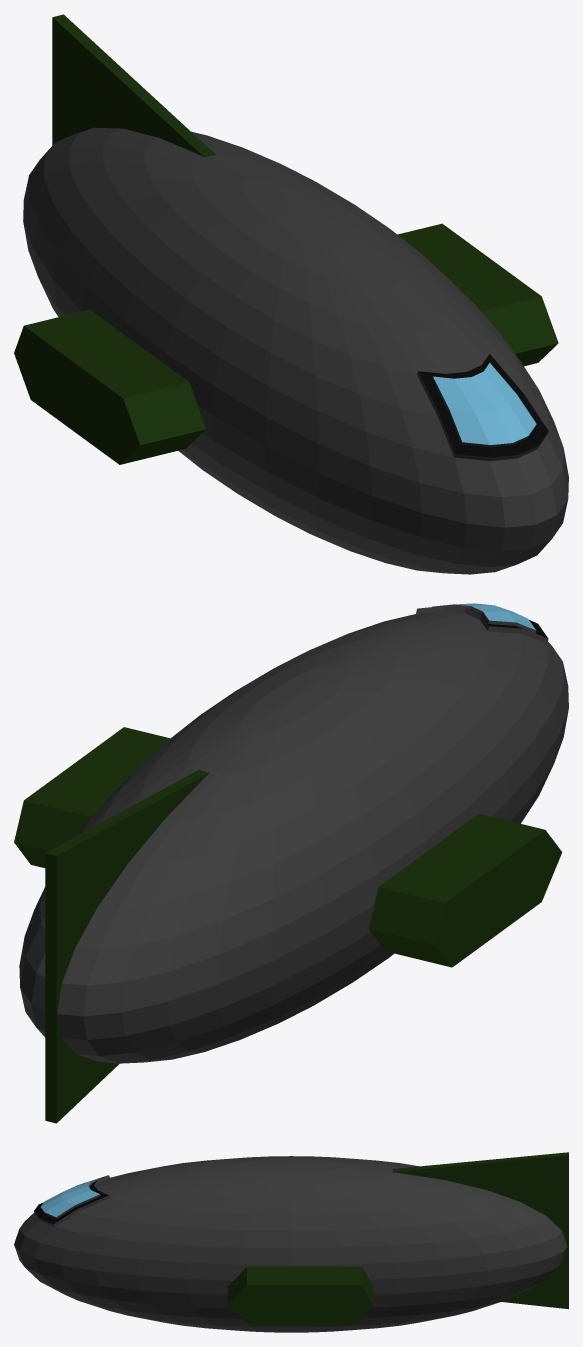
The model's file is blimp.obj.
3 renders of one model, top to bottom at view 1: azimuth 30°, elevation 25°; view 2: azimuth 150°, elevation 25°; view 3: azimuth 270°, elevation 25°, orthographic. The views are drawn at different scales.
Parts seen in each view (by area): view 1: Sphere, Cube, Plane, Cube.001; view 2: Sphere, Cube, Plane, Cube.001; view 3: Sphere, Cube.001, Plane.
Part boxes in pixels (<box>): Sphere: <box>23,127,568,574</box>; Cube: <box>14,309,205,464</box>; Plane: <box>52,14,215,157</box>; Cube.001: <box>397,223,558,366</box>; Sphere: <box>19,603,568,1063</box>; Cube: <box>368,813,562,967</box>; Plane: <box>45,770,209,1123</box>; Cube.001: <box>14,727,170,867</box>; Sphere: <box>14,1156,567,1332</box>; Cube.001: <box>227,1266,373,1325</box>; Plane: <box>392,1152,568,1309</box>.
Size of the model in its own units: 3.16 by 2.14 by 6.28.
